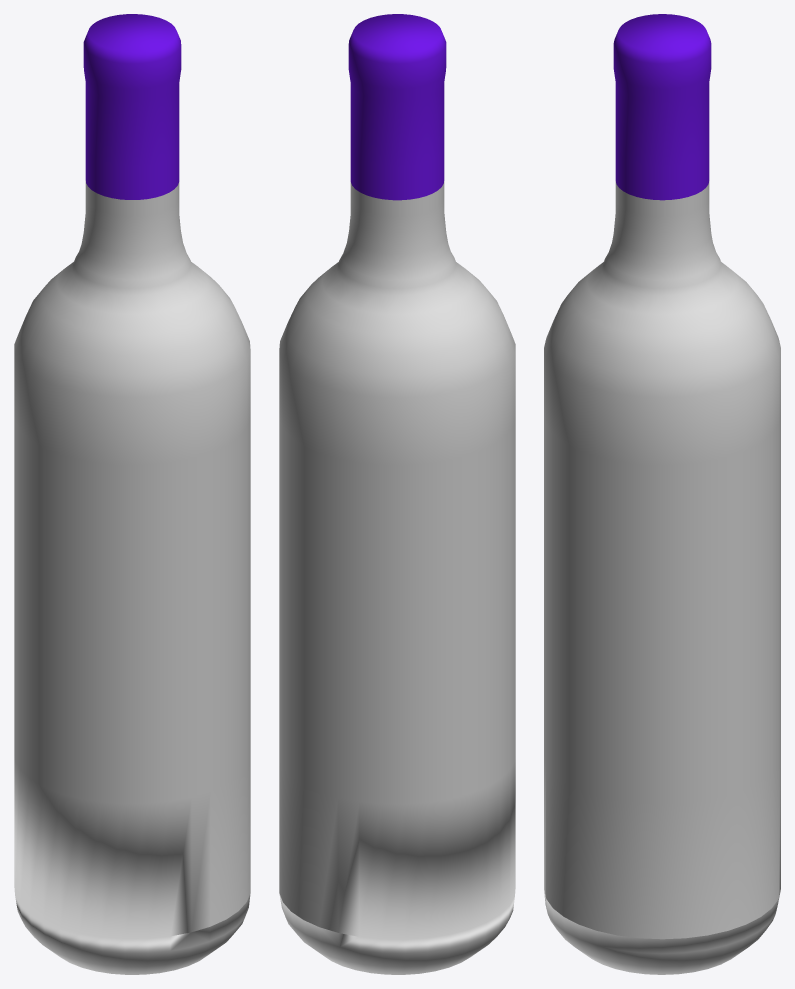
The model's file is botella_vidrio.fbx.
3 renders of one model, left to right at view 1: azimuth 30°, elevation 25°; view 2: azimuth 150°, elevation 25°; view 3: azimuth 270°, elevation 25°, orthographic.
Visible parts, largest first — view 1: Cylinder; view 2: Cylinder; view 3: Cylinder.
Part boxes in pixels (x1,y1,x2,y2): Cylinder: (14, 14, 250, 974); Cylinder: (279, 14, 515, 974); Cylinder: (544, 14, 780, 974).
Size of the model in its own units: 117 by 492 by 117.
